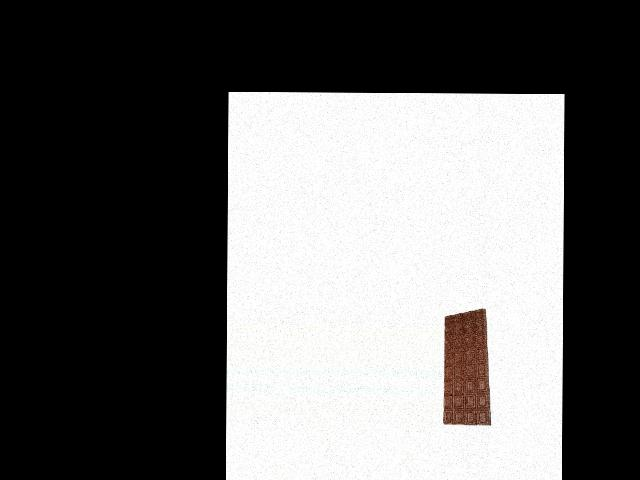chocolate: (443, 306, 490, 426)
